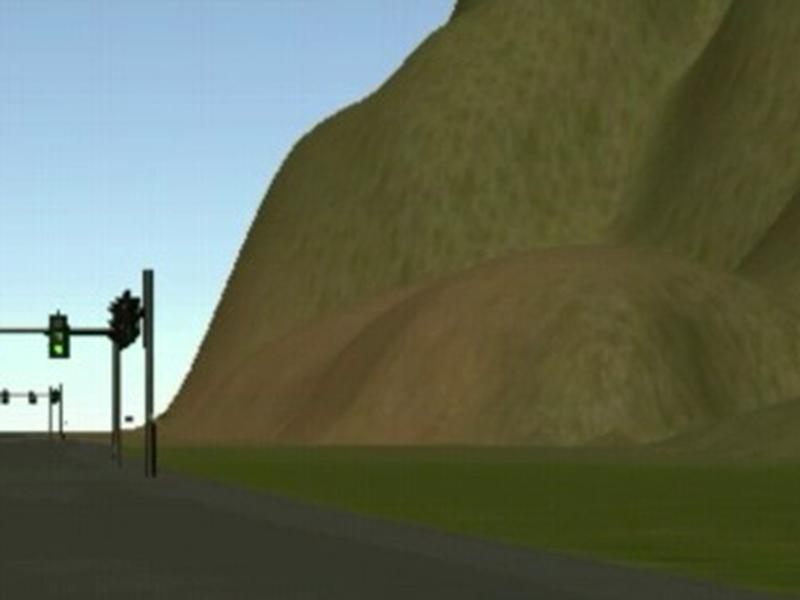Green: (48, 316, 72, 359)
